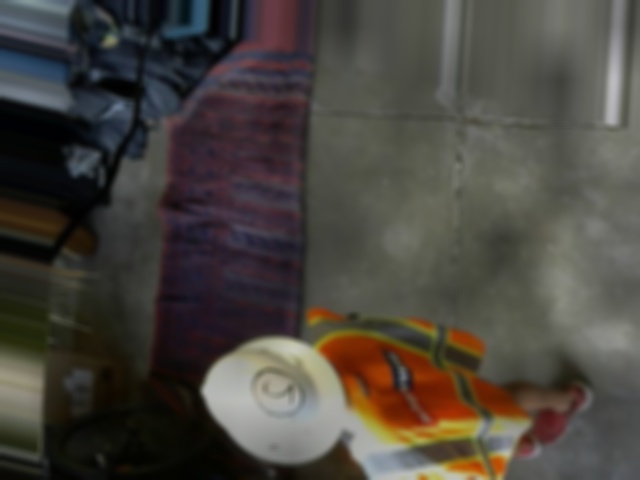two: (250, 364, 302, 420)
